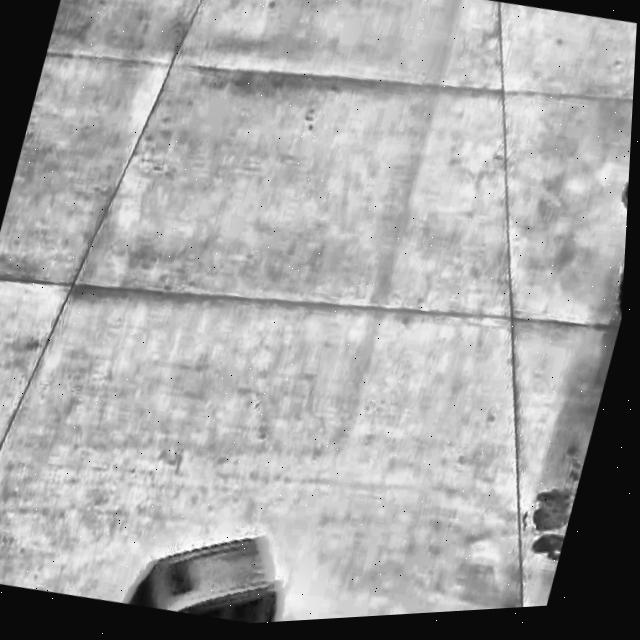light_vehicle: (60, 493, 306, 636)
